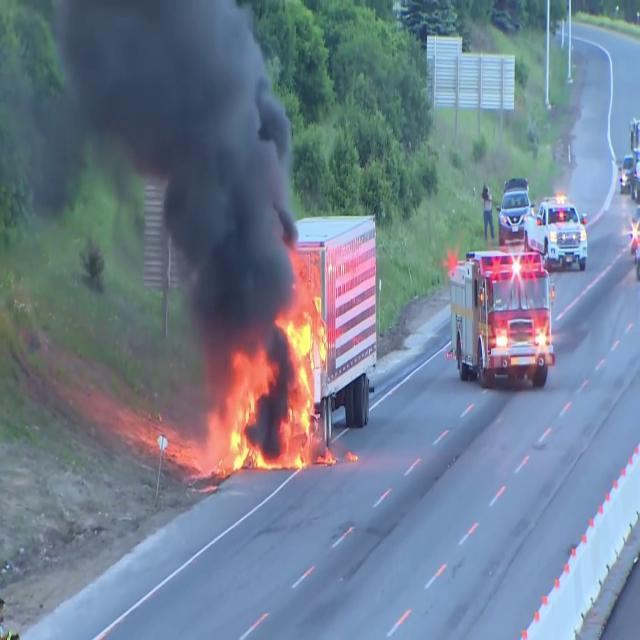Fire: (278, 275, 329, 451), (218, 343, 274, 468)
Smoke: (0, 1, 302, 427), (547, 43, 621, 225)
